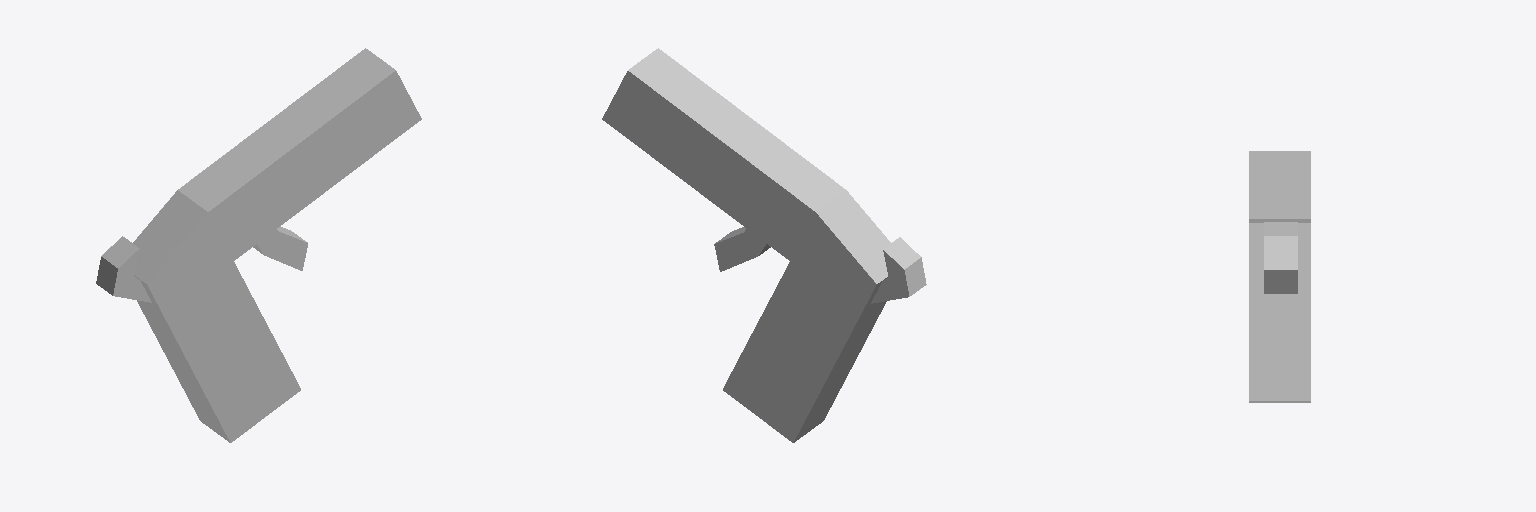
Rendered from GUN3.obj.
3 renders of one model, left to right at view 1: azimuth 30°, elevation 25°; view 2: azimuth 150°, elevation 25°; view 3: azimuth 270°, elevation 25°, orthographic.
Parts seen in each view (by area): view 1: Plane; view 2: Plane; view 3: Plane.
Boxes of the visible parts, box(x1,y1,x2,y2) form: Plane: box(96, 48, 421, 442); Plane: box(602, 48, 926, 442); Plane: box(1249, 151, 1310, 402).
Bounding box in the file's own units: 3.82 × 4.03 × 0.67.